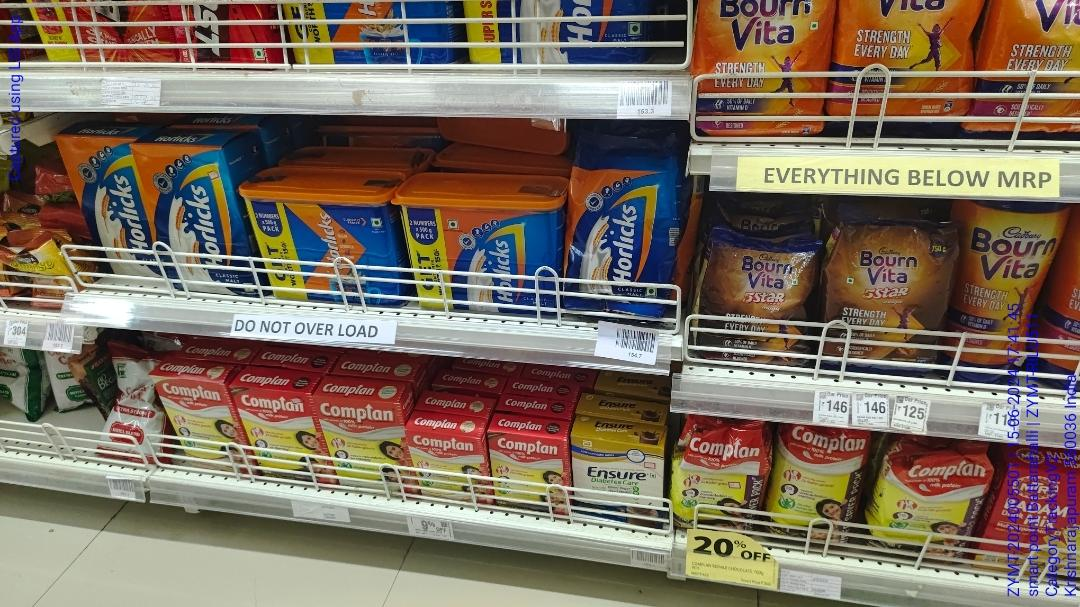BOURN_VITA_500_G_JAR: (959, 192, 1049, 388)
BOURN_VITA_FIVE_STAR_MAGIC_500_G_POUCH: (824, 226, 948, 370), (694, 232, 811, 360)
COMPLAN_CHOCOLATE_200_GMS_PACK: (491, 430, 568, 514), (411, 427, 484, 507)
COMPLAN_CREAMY_CLASSIC_500_G_PACK: (321, 399, 404, 494)
COMPLAN_RC_POUCH_700_GMS_12: (881, 437, 980, 567), (774, 427, 866, 545), (677, 422, 766, 538)
HORLICK_MALT_1_KG_CONTAINER: (405, 194, 562, 314), (250, 190, 398, 306)
